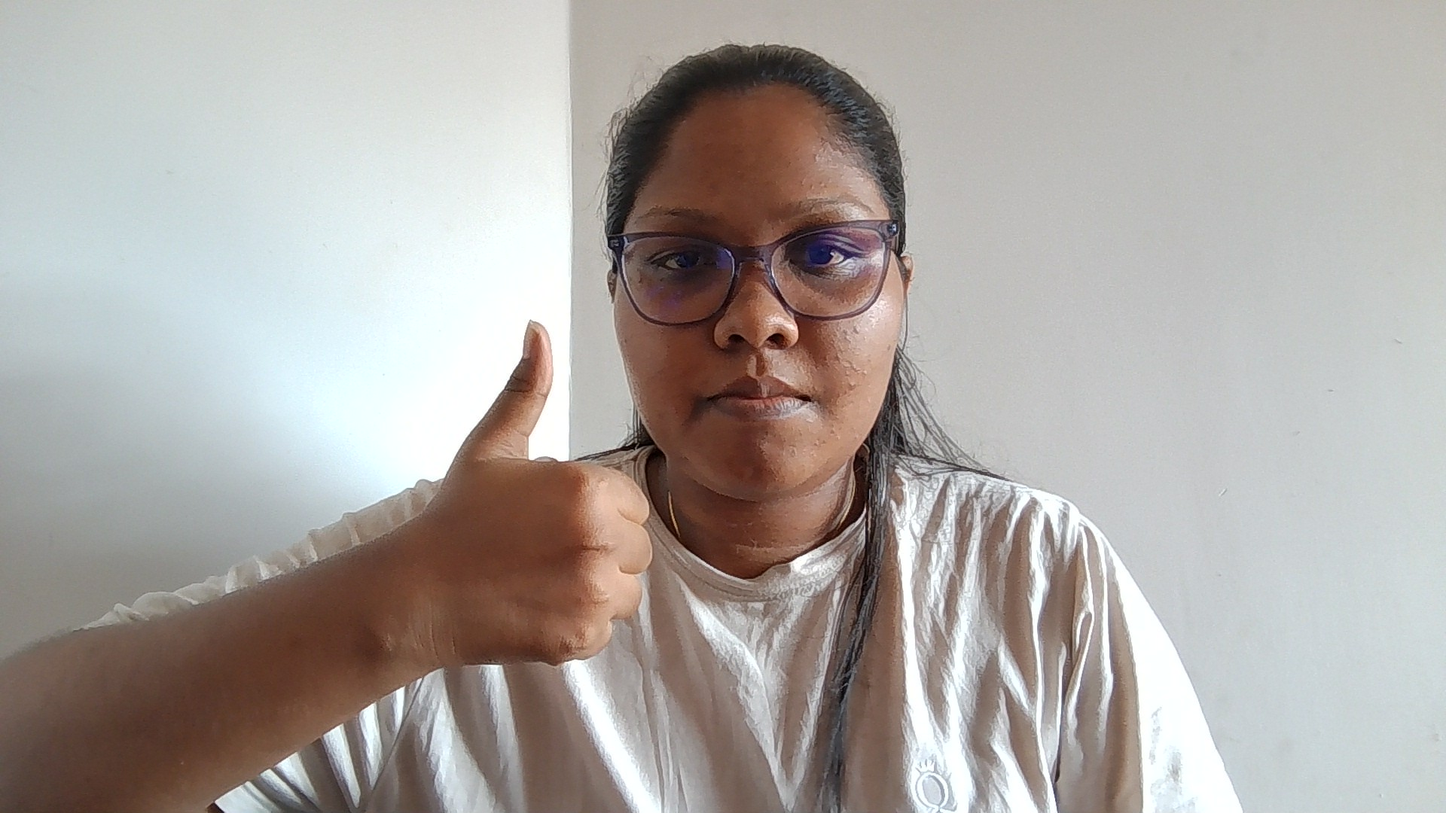Thumbs Up: (348, 273, 679, 742)
